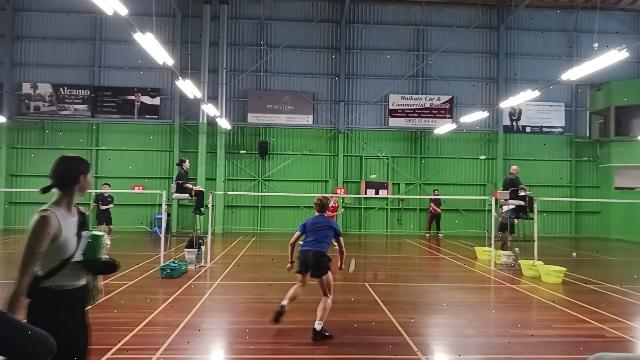Shuttlecock: (368, 172, 379, 182)
